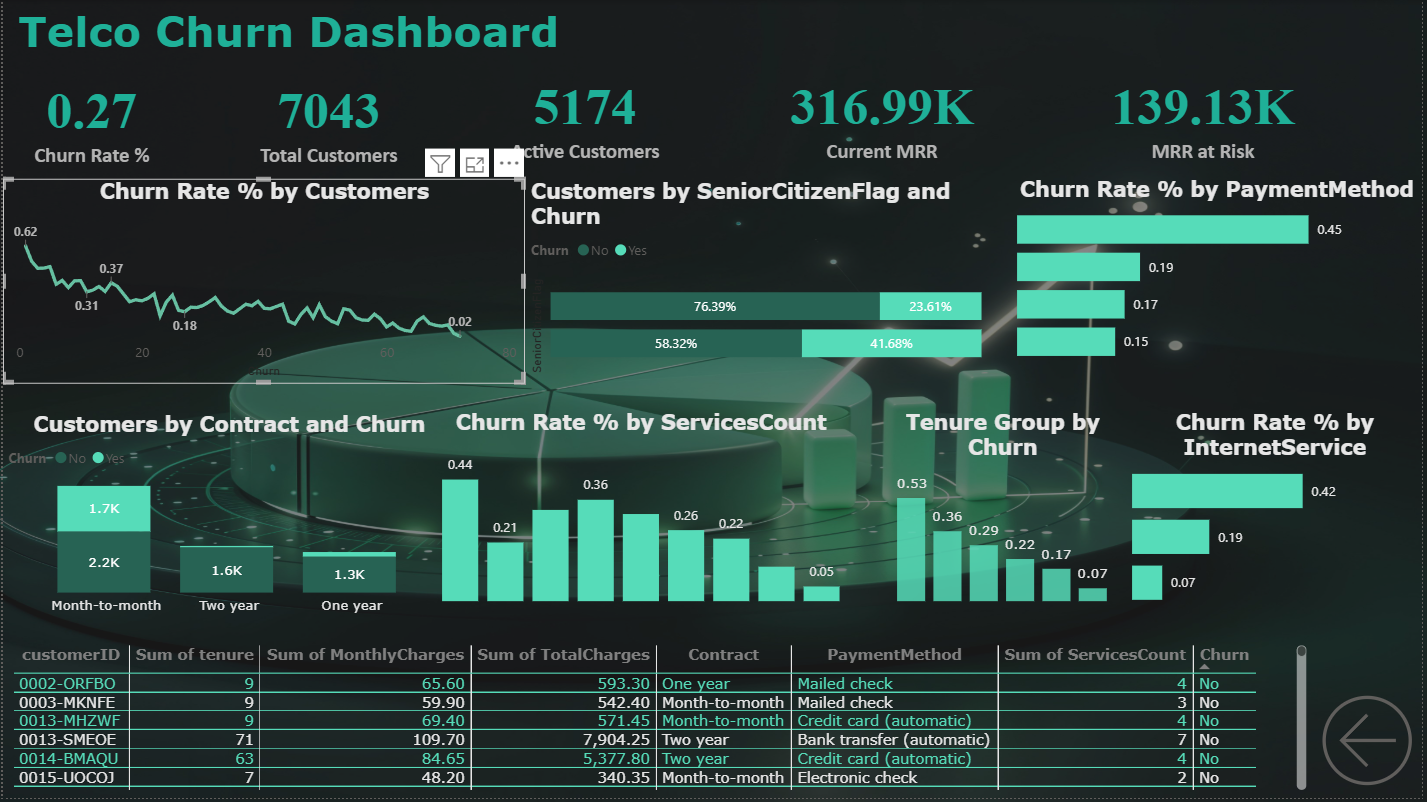

Layout of this report page (visuals, bound fields, positions):
{"tool":"powerbi","page":{"name":"Dashboard","canvas":[1280,720],"ordinal":0},"visuals":[{"type":"textbox","box":[9.4,0,557.9,71.4],"z":0},{"type":"card","fields":{"Values":["Telco.Churn Rate %"]},"box":[0,57,160.4,102.4],"z":0,"group":"g1"},{"type":"card","fields":{"Values":["Telco.Customers"]},"box":[204.8,57.3,177.9,99.7],"z":1000,"group":"g1"},{"type":"lineChart","title":"Churn Rate % by Customers","fields":{"Category":["Telco.tenure"],"Y":["Telco.Churn Rate %"]},"box":[0,161.4,471.4,184.3],"z":1000},{"type":"card","fields":{"Values":["Telco.Active Customers"]},"box":[436.6,47.5,177.9,113.2],"z":2000,"group":"g1"},{"type":"clusteredColumnChart","fields":{"Y":["Telco.Churn Rate %"],"Category":["Telco.TenureGroup"]},"box":[801.4,370,200,178.6],"z":2000},{"type":"card","title":"scsvsv","fields":{"Values":["Telco.MRR_Active"]},"box":[698.1,57.4,190,93],"z":3000,"group":"g1"},{"type":"columnChart","fields":{"Category":["Telco.Contract"],"Series":["Telco.Churn"],"Y":["Telco.Customers"]},"box":[0,370.6,408.3,192.7],"z":3000},{"type":"card","fields":{"Values":["Telco.Revenue_Lost_to_Churn_Monthly"]},"box":[923.1,56.1,318,95.7],"z":4000,"group":"g1"},{"type":"barChart","fields":{"Category":["Telco.PaymentMethod"],"Y":["Telco.Churn Rate %"]},"box":[910,158.6,370,168.6],"z":4000},{"type":"barChart","fields":{"Category":["Telco.InternetService"],"Y":["Telco.Churn Rate %"]},"box":[1012.9,370,267.1,178.6],"z":5000},{"type":"columnChart","fields":{"Y":["Telco.Churn Rate %"],"Category":["Telco.ServicesCount"]},"box":[391.4,370,368.6,178.6],"z":6000},{"type":"hundredPercentStackedBarChart","fields":{"Category":["Telco.SeniorCitizenFlag"],"Series":["Telco.Churn"],"Y":["Telco.Customers"]},"box":[471.7,161.7,416.4,184.6],"z":7000},{"type":"tableEx","fields":{"Values":["Telco.customerID","Sum(Telco.tenure)","Sum(Telco.MonthlyCharges)","Sum(Telco.TotalCharges)","Telco.Contract","Telco.PaymentMethod","Sum(Telco.ServicesCount)","Telco.Churn"]},"box":[2.9,577.1,1177.1,140],"z":8000},{"type":"actionButton","box":[1180,617.1,100,100],"z":9000},{"type":"group","id":"g1","title":"Group 1","box":[0,47.5,1241.2,113.2],"z":10000}]}

Visuals, with their boxes in screenshot pixels (x1, y1, x2, y2), scaled from the page's 1280x720 canvas onto the 1427x802 screenshot:
textbox: {"x1": 10, "y1": 0, "x2": 632, "y2": 80}
card - Telco.Churn Rate %: {"x1": 0, "y1": 63, "x2": 179, "y2": 178}
card - Telco.Customers: {"x1": 228, "y1": 64, "x2": 427, "y2": 175}
"Churn Rate % by Customers" lineChart: {"x1": 0, "y1": 180, "x2": 526, "y2": 385}
card - Telco.Active Customers: {"x1": 487, "y1": 53, "x2": 685, "y2": 179}
clusteredColumnChart - Telco.Churn Rate % x Telco.TenureGroup: {"x1": 893, "y1": 412, "x2": 1116, "y2": 611}
"scsvsv" card: {"x1": 778, "y1": 64, "x2": 990, "y2": 168}
columnChart - Telco.Contract x Telco.Churn: {"x1": 0, "y1": 413, "x2": 455, "y2": 627}
card - Telco.Revenue_Lost_to_Churn_Monthly: {"x1": 1029, "y1": 62, "x2": 1384, "y2": 169}
barChart - Telco.PaymentMethod x Telco.Churn Rate %: {"x1": 1015, "y1": 177, "x2": 1426, "y2": 364}
barChart - Telco.InternetService x Telco.Churn Rate %: {"x1": 1129, "y1": 412, "x2": 1426, "y2": 611}
columnChart - Telco.Churn Rate % x Telco.ServicesCount: {"x1": 436, "y1": 412, "x2": 847, "y2": 611}
hundredPercentStackedBarChart - Telco.SeniorCitizenFlag x Telco.Churn: {"x1": 526, "y1": 180, "x2": 990, "y2": 386}
tableEx - Telco.customerID x Sum(Telco.tenure): {"x1": 3, "y1": 643, "x2": 1316, "y2": 799}
actionButton: {"x1": 1316, "y1": 687, "x2": 1426, "y2": 799}
"Group 1" group: {"x1": 0, "y1": 53, "x2": 1384, "y2": 179}
